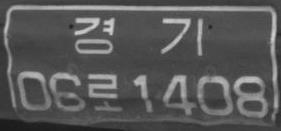0: (197, 73, 234, 116), (15, 69, 52, 111)
1: (129, 73, 155, 114)
4: (161, 73, 197, 116)
6: (53, 70, 86, 114)
8: (234, 74, 269, 118)
경기_D: (73, 15, 203, 57)
로: (87, 71, 123, 112)
